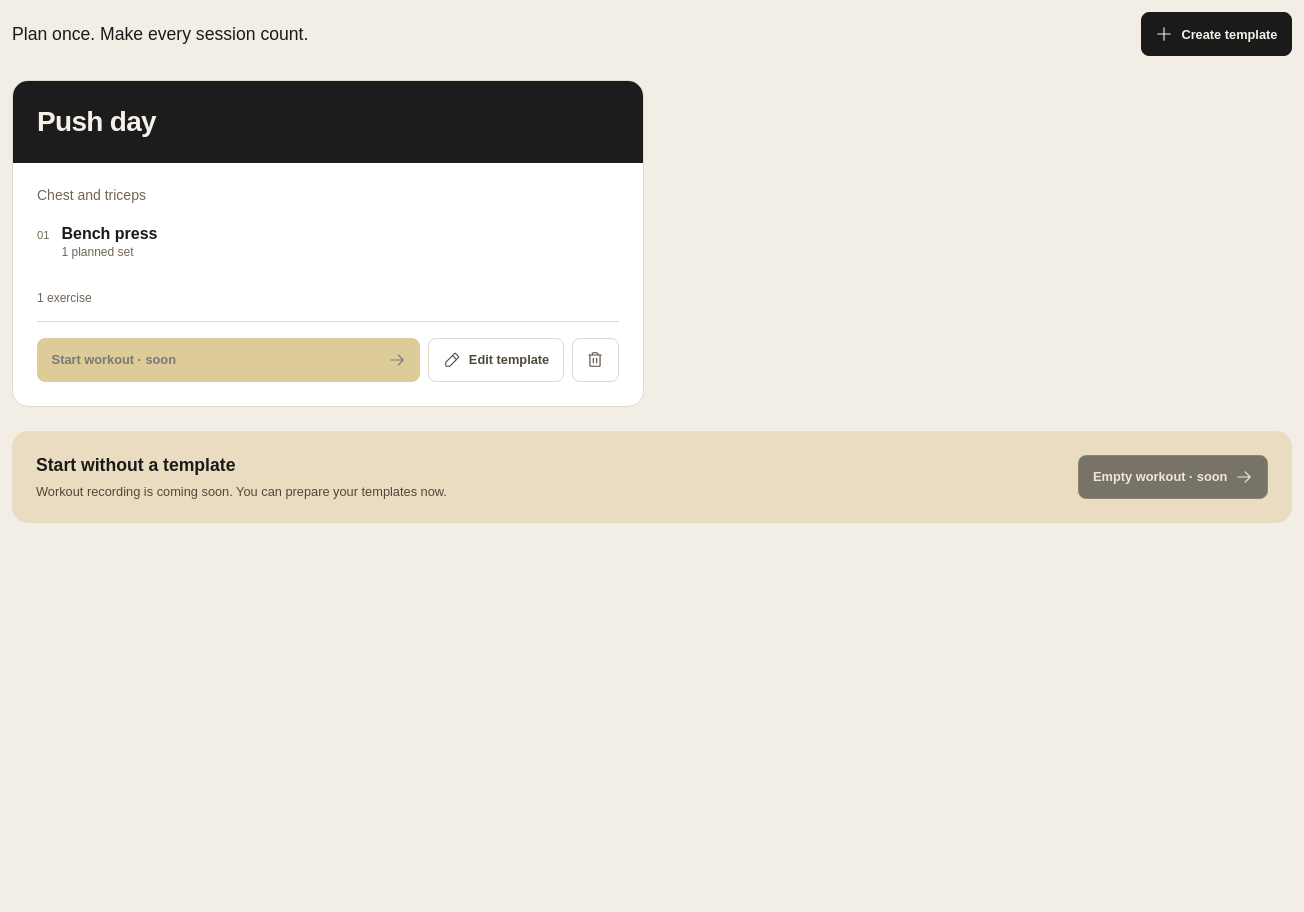
Test: workout templates › changes only metadata without replacing exercise history identifiers
This screenshot has width=1304, height=912.
Click the button with aria-label "Edit Push day": (496,360) [428,338,564,382]
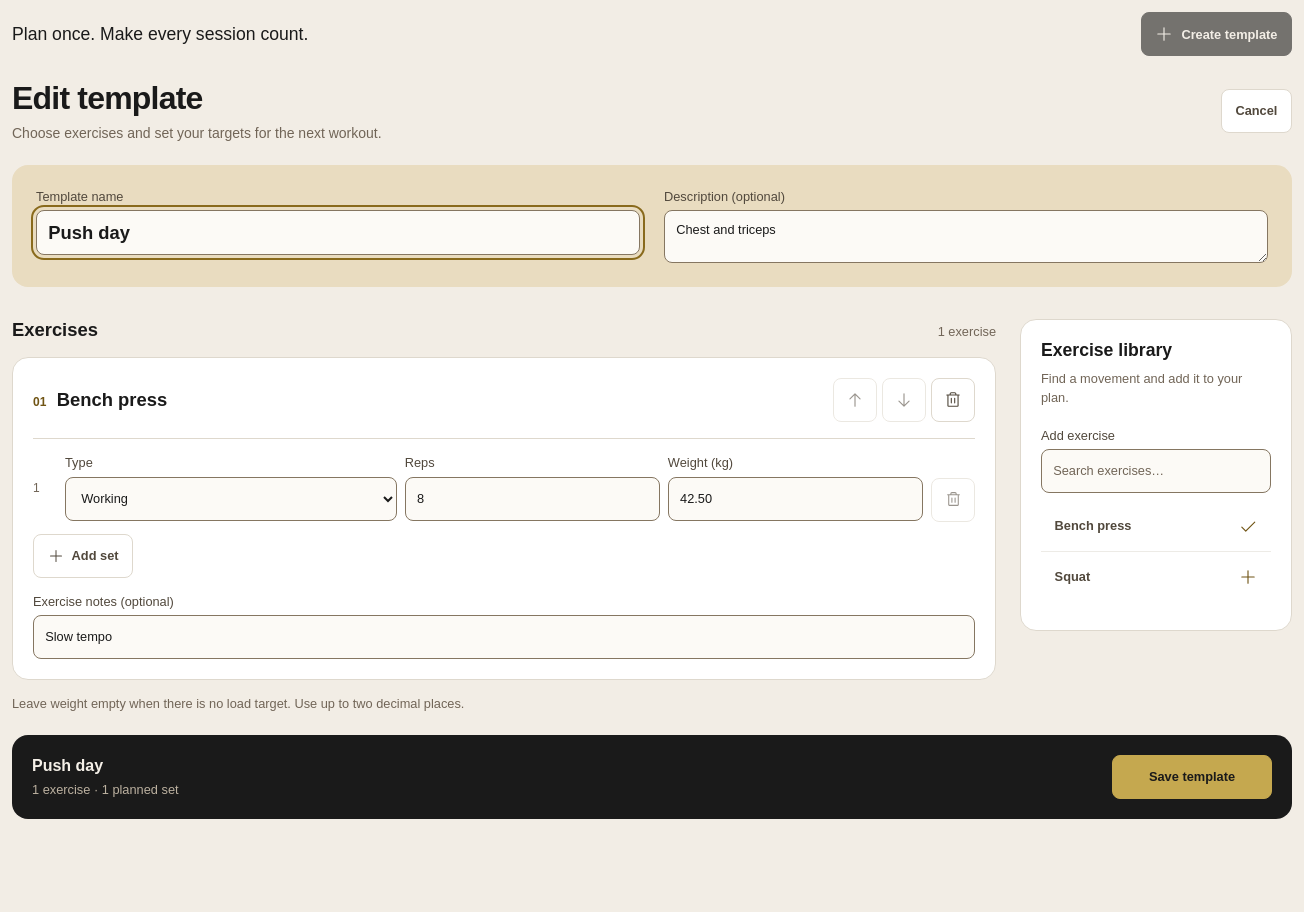
Now the field named "Exercise 1, set 1 weight (kg)" holds "42.50", box [668,477,923,521]
Replace the text in the field labelled "Template name" with "Push A": (338,233) [36,210,640,255]
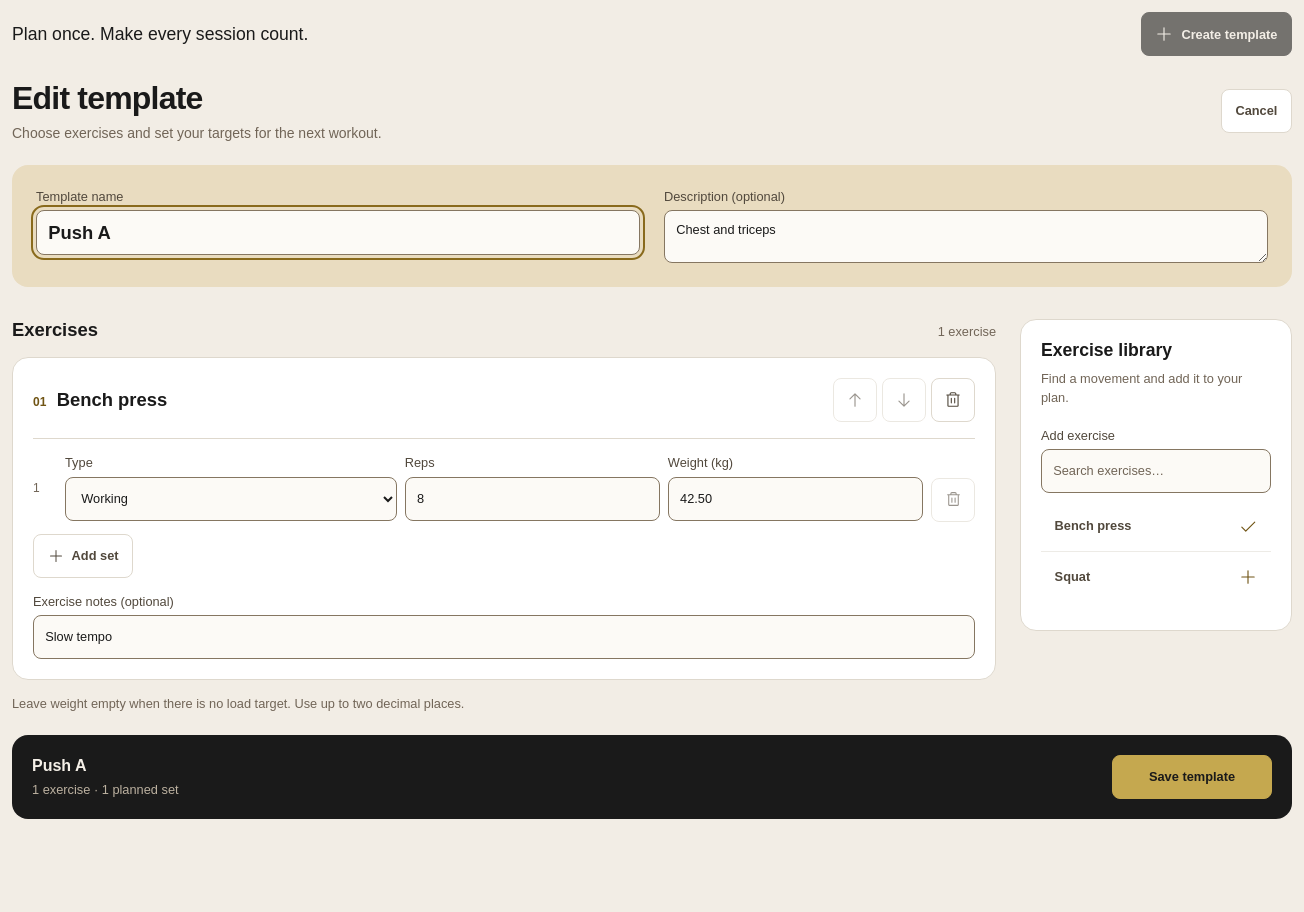
Clear the text box labelled "Description (optional)": (966,237) [664,210,1268,263]
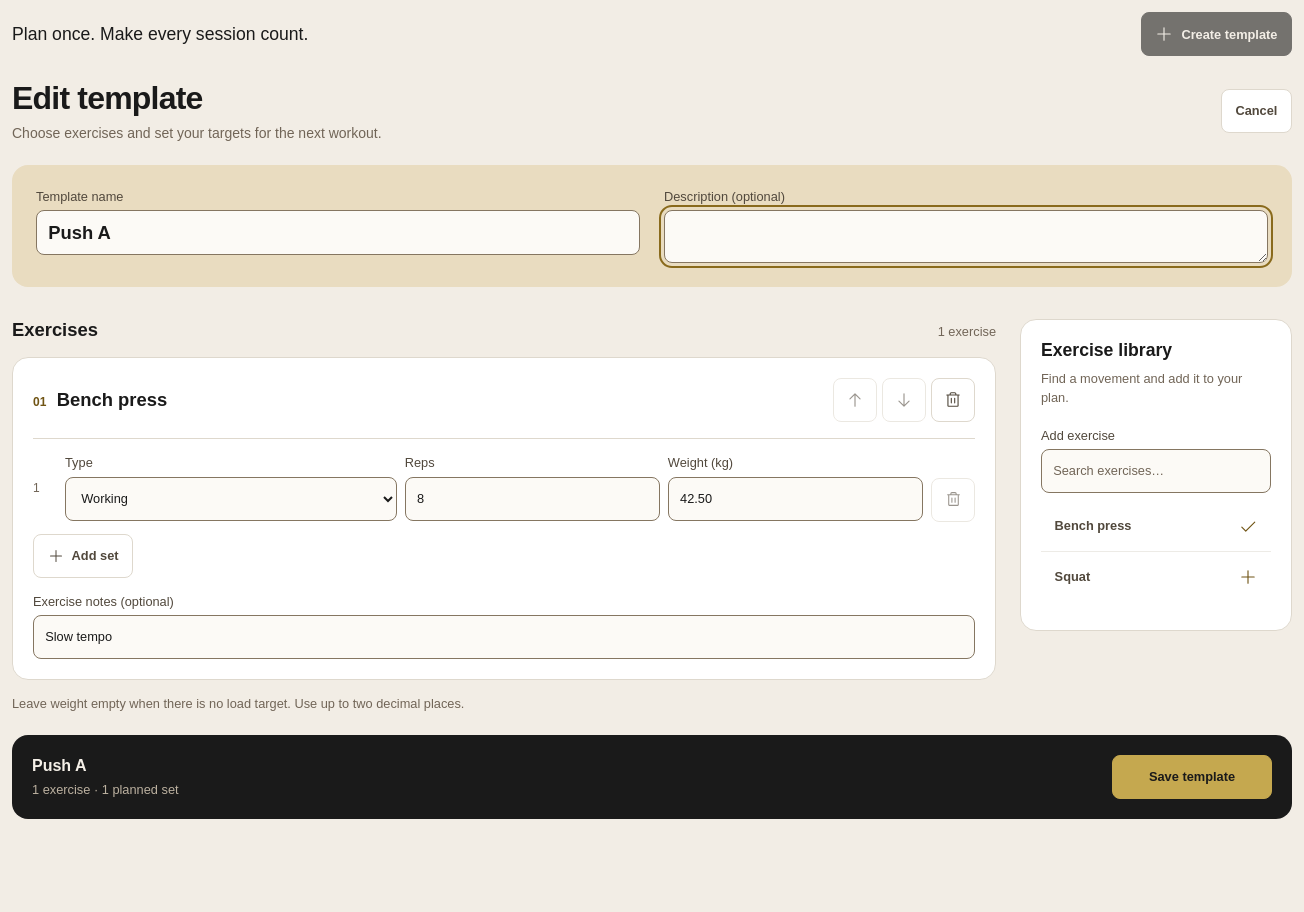
Click the button "Save template": (1192,777) [1112,755,1272,799]
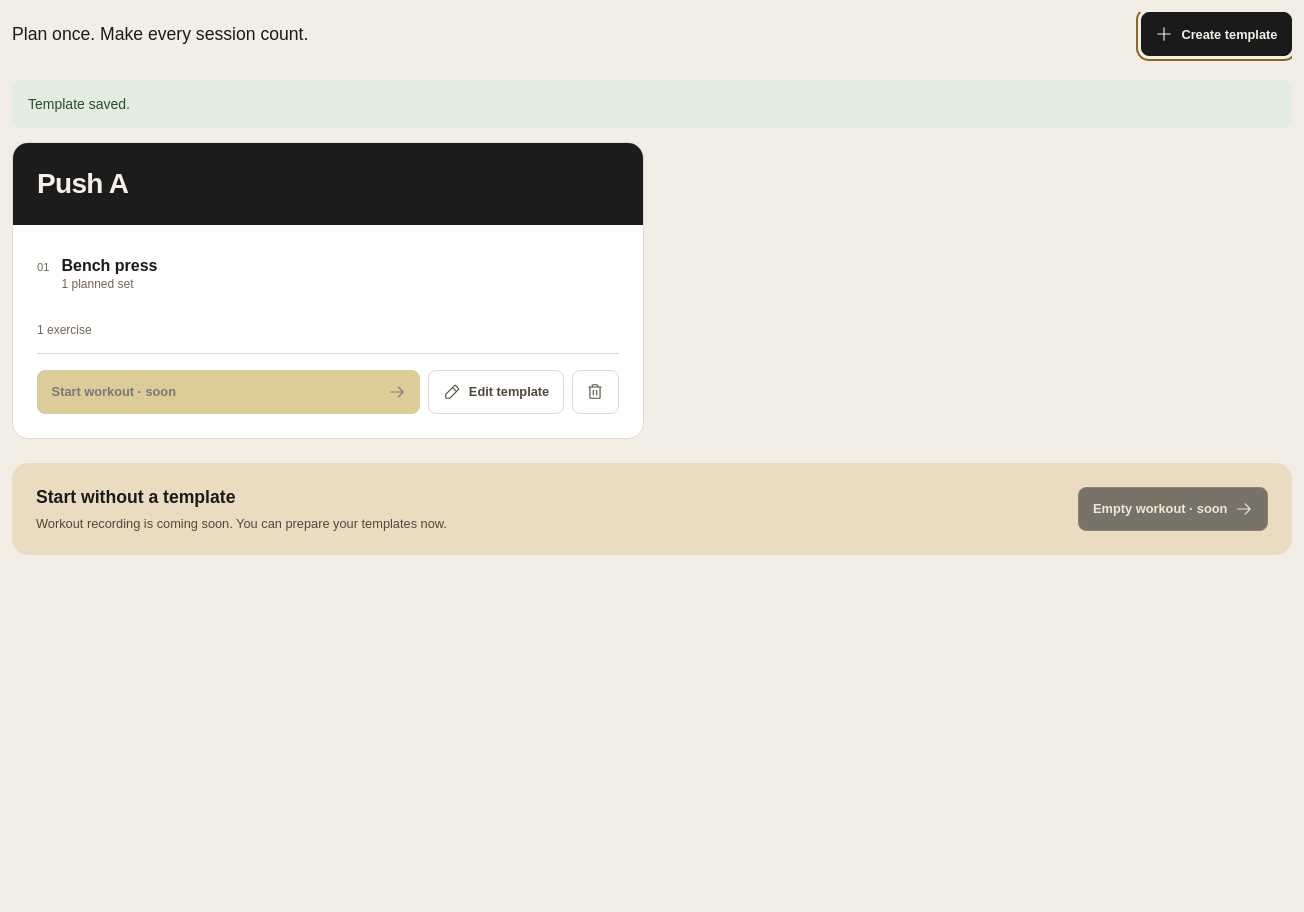
Now the text "Template saved." is shown, box [12,80,1292,128]
